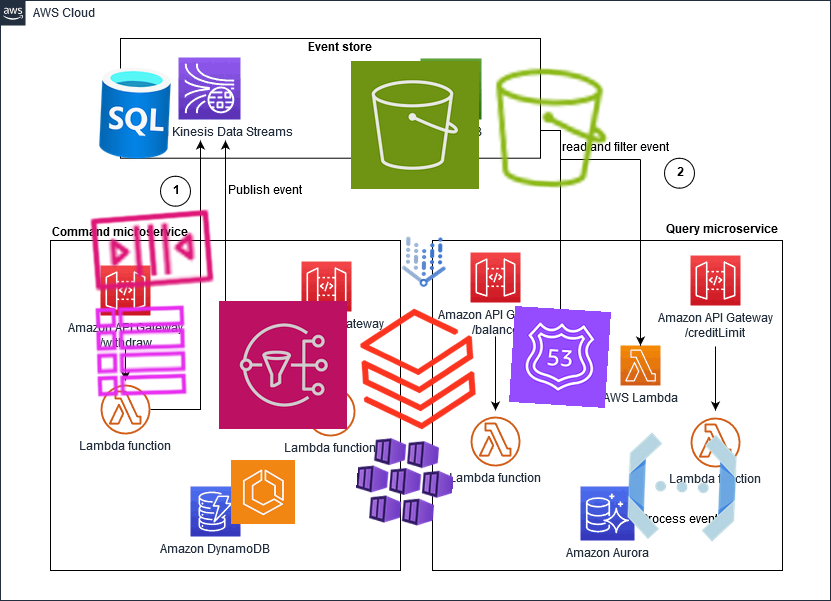aws_amazon_elastic_container_service: (230, 459, 296, 525)
aws_amazon_route_53: (509, 306, 611, 408)
aws_amazon_simple_notification_service: (218, 300, 348, 430)
aws_amazon_simple_storage_service: (350, 60, 480, 190)
aws_dynamodb_table: (91, 301, 191, 401)
aws_simple_queue_service_queue: (83, 180, 221, 318)
aws_simple_storage_service_s3_standard: (482, 60, 618, 196)
azure_databricks: (349, 300, 487, 438)
azure_kubernetes_services: (353, 429, 457, 533)
azure_sql_database: (84, 62, 186, 164)
gcp_cloud_functions: (615, 420, 749, 554)
gcp_vertex_ai: (391, 229, 457, 295)
